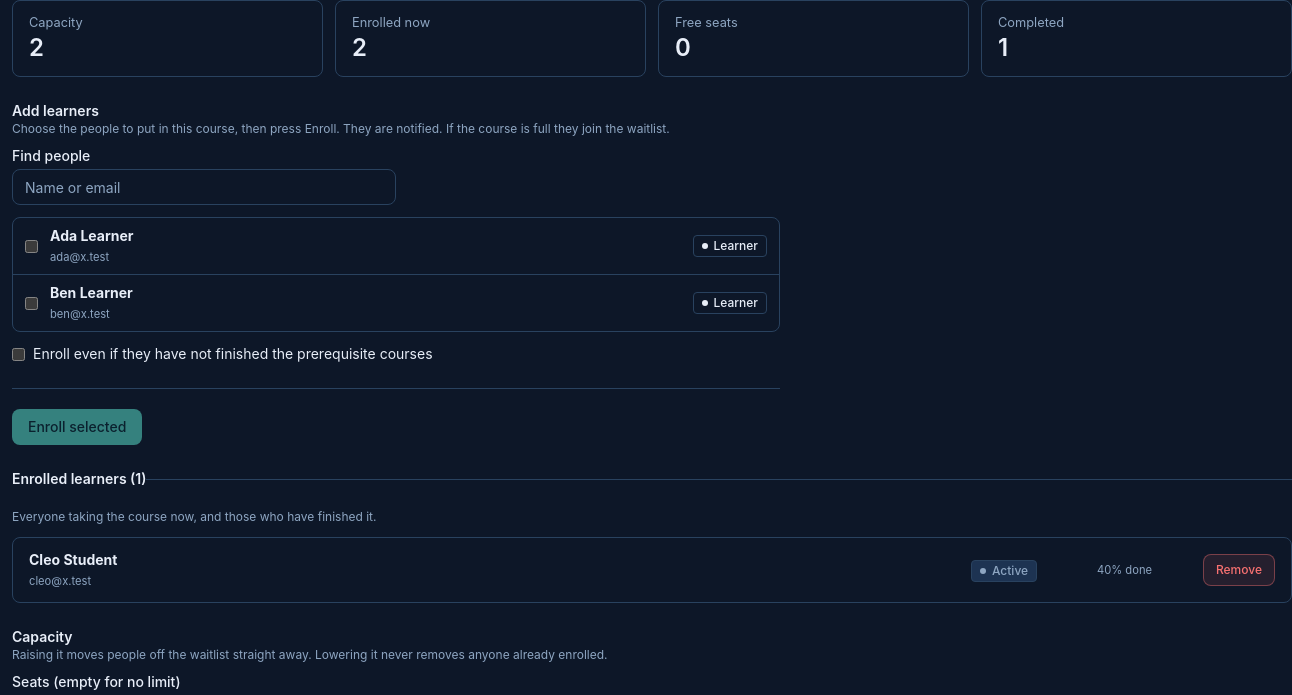
Test: adding learners to a course › removes someone after confirming
Click the button with aria-label "Remove Cleo Student". click: {"x": 1239, "y": 570}
box: [1203,554,1275,586]
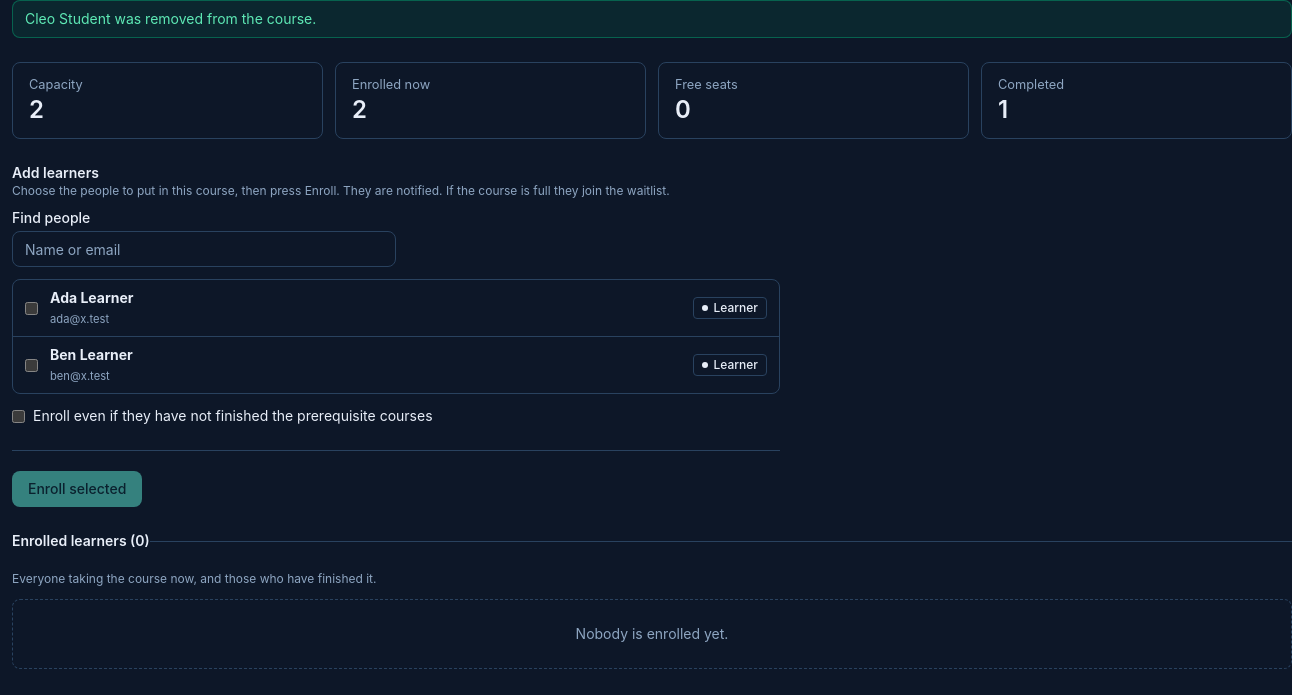
Expected: the text "Cleo Student was removed from the course." is shown, [12,0,1291,38]
Expected: the text "Nobody is enrolled yet." is shown, [12,599,1291,669]
